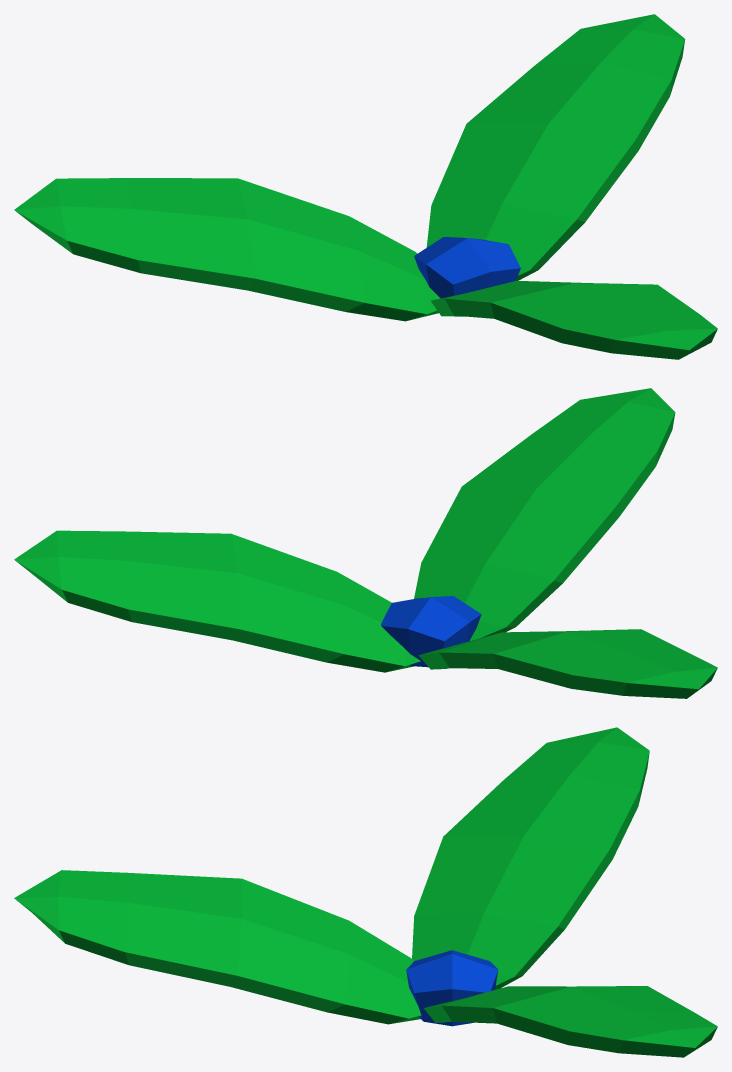
Rendered from Flower4.fbx.
3 renders of one model, top to bottom at view 1: azimuth 30°, elevation 25°; view 2: azimuth 150°, elevation 25°; view 3: azimuth 270°, elevation 25°, orthographic. The views are drawn at different scales.
Visible parts, largest first — view 1: Flower4; view 2: Flower4; view 3: Flower4.
Part boxes in pixels (x1,y1,x2,y2): Flower4: (14,14,717,359); Flower4: (14,388,717,698); Flower4: (14,727,717,1057).
Bounding box in the file's own units: 35.15 × 6.4 × 32.6.
1 material, 1 textured.
